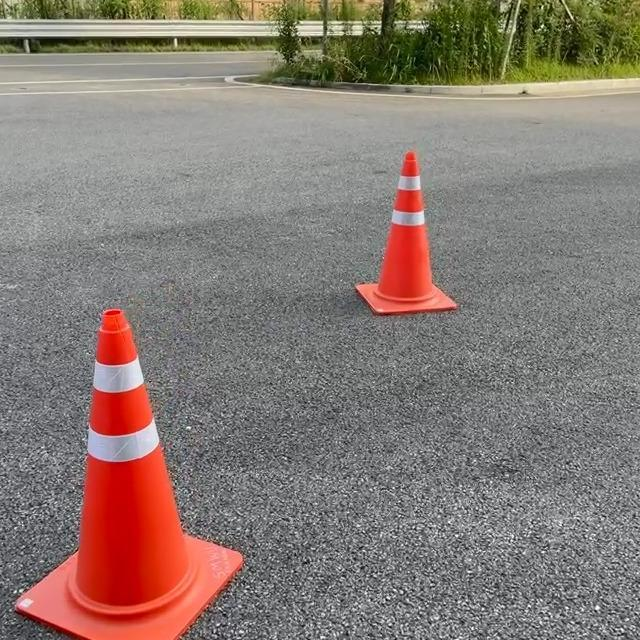fallen_object: (7, 281, 309, 640), (303, 119, 476, 337)
